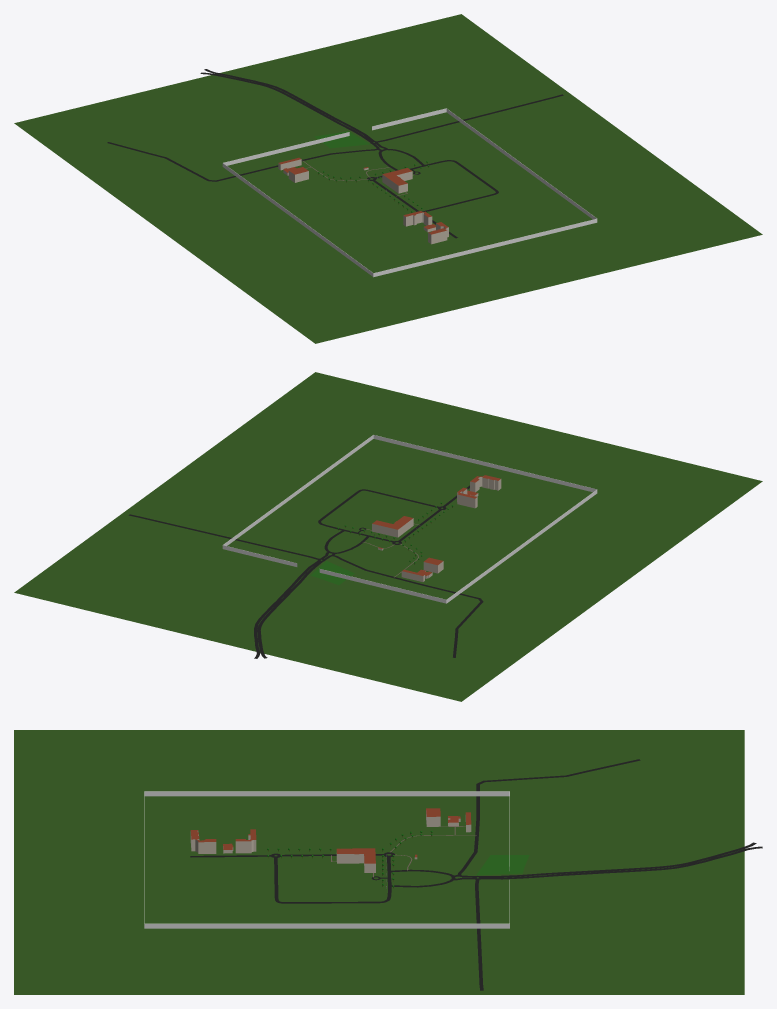
Rendered from IIITS_Campus.fbx.
3 views of the same model, one above another, from view 1: azimuth 30°, elevation 25°; view 2: azimuth 150°, elevation 25°; view 3: azimuth 270°, elevation 25° (orthographic). The views are drawn at different scales.
Parts seen in each view (by area): view 1: Plane, map_5.osm_buildings, map_5.osm_roads_residential, map_5.osm_roads_secondary; view 2: Plane, map_5.osm_buildings, map_5.osm_roads_residential, map_5.osm_roads_secondary; view 3: Plane, map_5.osm_roads_residential, map_5.osm_buildings, map_5.osm_roads_secondary, map_5.osm_forest.
Boxes of the visible parts, bbox=[...] form: Plane: bbox=[14, 14, 762, 343]; map_5.osm_buildings: bbox=[278, 157, 448, 244]; map_5.osm_roads_residential: bbox=[107, 94, 563, 238]; map_5.osm_roads_secondary: bbox=[200, 69, 374, 142]; Plane: bbox=[14, 372, 762, 701]; map_5.osm_buildings: bbox=[372, 475, 501, 581]; map_5.osm_roads_residential: bbox=[128, 485, 483, 657]; map_5.osm_roads_secondary: bbox=[254, 560, 322, 658]; Plane: bbox=[14, 730, 744, 994]; map_5.osm_roads_residential: bbox=[190, 759, 640, 990]; map_5.osm_buildings: bbox=[190, 808, 471, 872]; map_5.osm_roads_secondary: bbox=[480, 842, 762, 879]; map_5.osm_forest: bbox=[476, 855, 529, 875].
Bounding box in the file's own units: 1200 × 25.11 × 1435.
